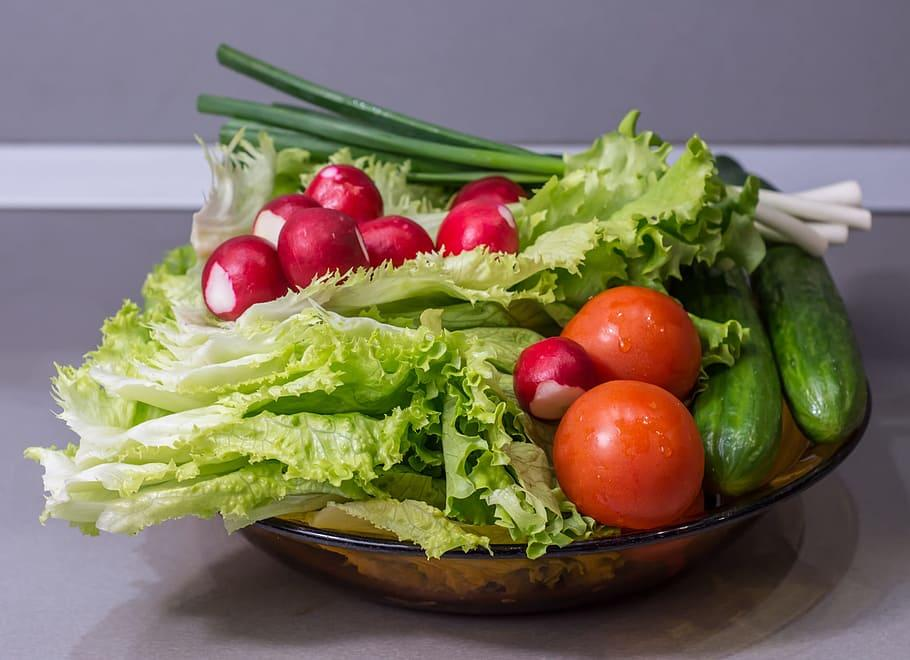cucumber: (702, 259, 907, 493)
lettuce: (61, 314, 514, 571)
spring onion: (175, 4, 884, 266)
tomato: (524, 283, 719, 521)
